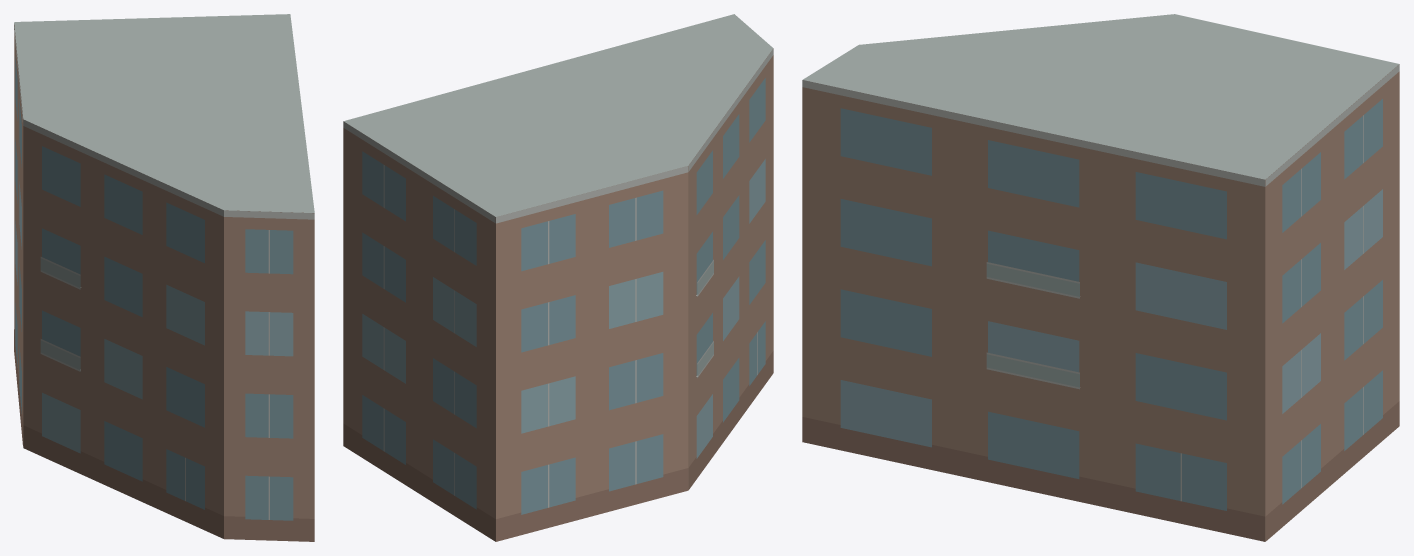
Rendered from survey-upis-32882835.glb.
3 renders of one model, left to right at view 1: azimuth 30°, elevation 25°; view 2: azimuth 150°, elevation 25°; view 3: azimuth 270°, elevation 25°, orthographic. The views are drawn at different scales.
Visible parts, largest first — view 1: survey-upis-32882835.tmp; view 2: survey-upis-32882835.tmp; view 3: survey-upis-32882835.tmp.
Boxes of the visible parts, x1,y1,x2,y2 form: survey-upis-32882835.tmp: (14,14,314,541); survey-upis-32882835.tmp: (343,14,773,541); survey-upis-32882835.tmp: (802,14,1399,541).
Bounding box in the file's own units: 11.98 × 12.2 × 18.24.
